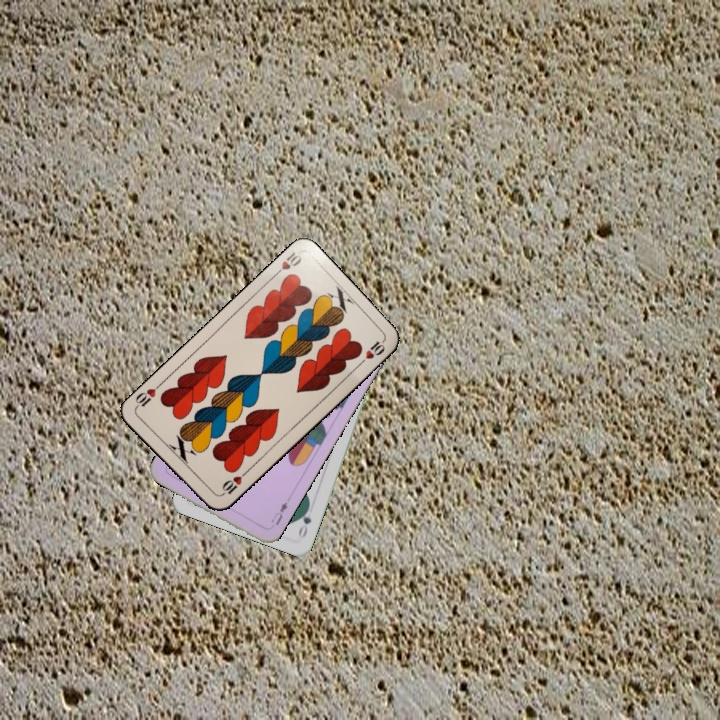EU: (267, 497, 290, 528)
GO: (294, 501, 314, 540)
H10: (269, 248, 304, 280), (216, 468, 249, 499)
